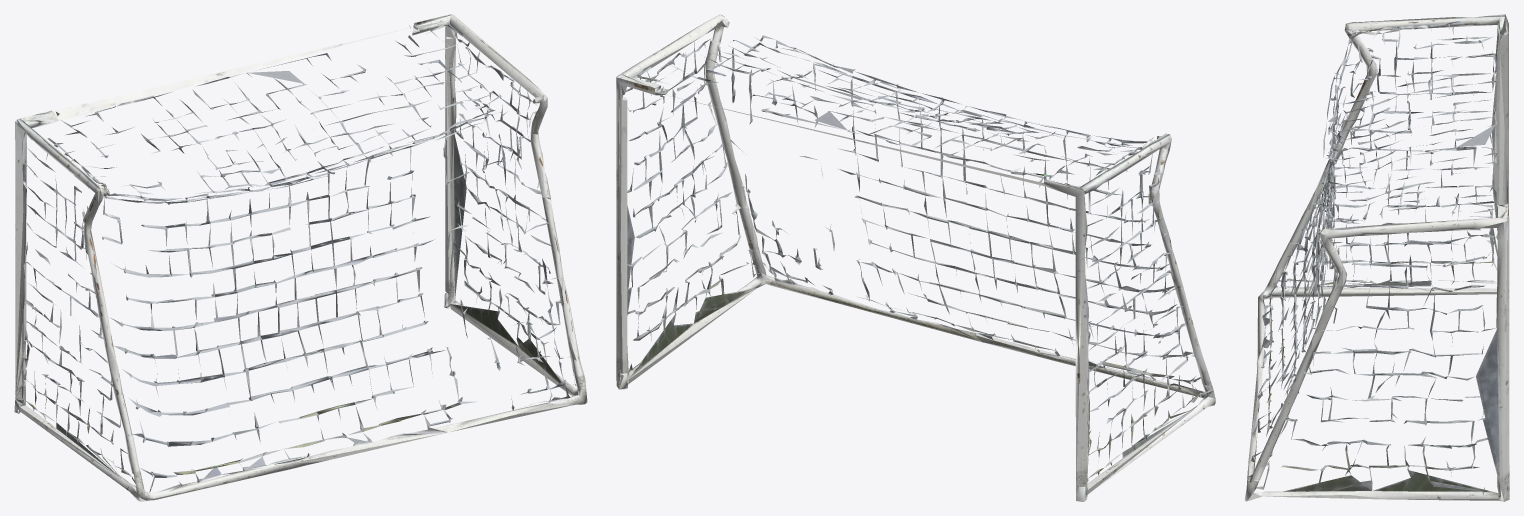
Rendered from fv_goal.glb.
The picture shows the model from 3 angles, left to right: view 1: azimuth 30°, elevation 25°; view 2: azimuth 150°, elevation 25°; view 3: azimuth 270°, elevation 25°; orthographic projection. The views are drawn at different scales.
Parts seen in each view (by area): view 1: fv_goal; view 2: fv_goal; view 3: fv_goal.
Part boxes in pixels (bbox=[...]): fv_goal: bbox=[14, 14, 587, 501]; fv_goal: bbox=[616, 14, 1215, 501]; fv_goal: bbox=[1244, 14, 1509, 501].
Size of the model in its own units: 3 by 1.9 by 1.62.
1 material, 1 textured.
